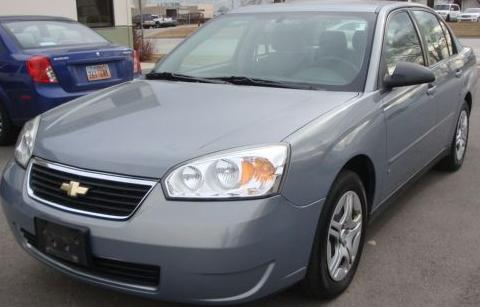front_view: (6, 124, 288, 292)
headlight: (164, 147, 293, 200)
side_glass: (381, 6, 452, 69)
